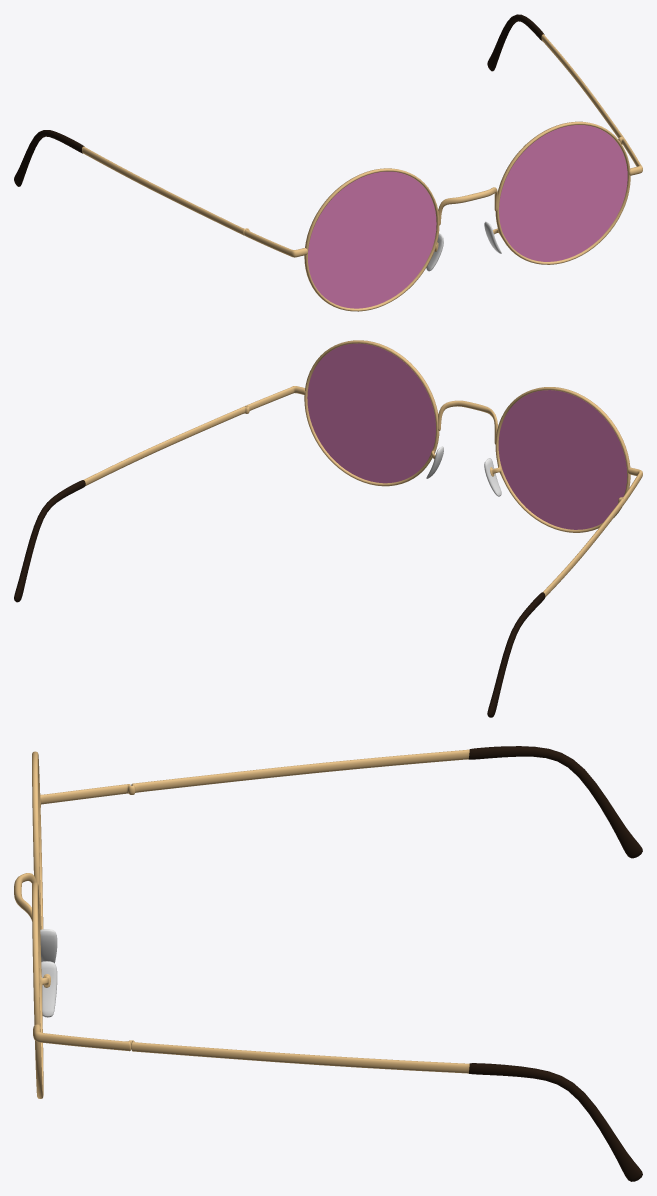
File: Sunglasses_2.fbx
3 renders of one model, top to bottom at view 1: azimuth 30°, elevation 25°; view 2: azimuth 150°, elevation 25°; view 3: azimuth 270°, elevation 25°, orthographic. The views are drawn at different scales.
Parts seen in each view (by area): view 1: Cylinder.002, Cube.001, Cylinder.001, Cylinder.003; view 2: Cylinder.002, Cube.001, Cylinder.001, Cylinder.003; view 3: Cube.001, Cylinder.001, Cylinder.003.
Part boxes in pixels (left/top/right/bottom): Cylinder.002: left=308, top=125, right=627, bottom=308; Cube.001: left=14, top=14, right=642, bottom=257; Cylinder.001: left=304, top=121, right=630, bottom=311; Cylinder.003: left=426, top=221, right=501, bottom=271; Cylinder.002: left=307, top=343, right=627, bottom=529; Cube.001: left=14, top=386, right=642, bottom=717; Cylinder.001: left=304, top=340, right=630, bottom=532; Cylinder.003: left=426, top=446, right=501, bottom=496; Cube.001: left=14, top=746, right=642, bottom=1181; Cylinder.001: left=32, top=751, right=50, bottom=1098; Cylinder.003: left=40, top=929, right=57, bottom=1017.
Bounding box in the file's own units: 152 × 42.52 × 123.
